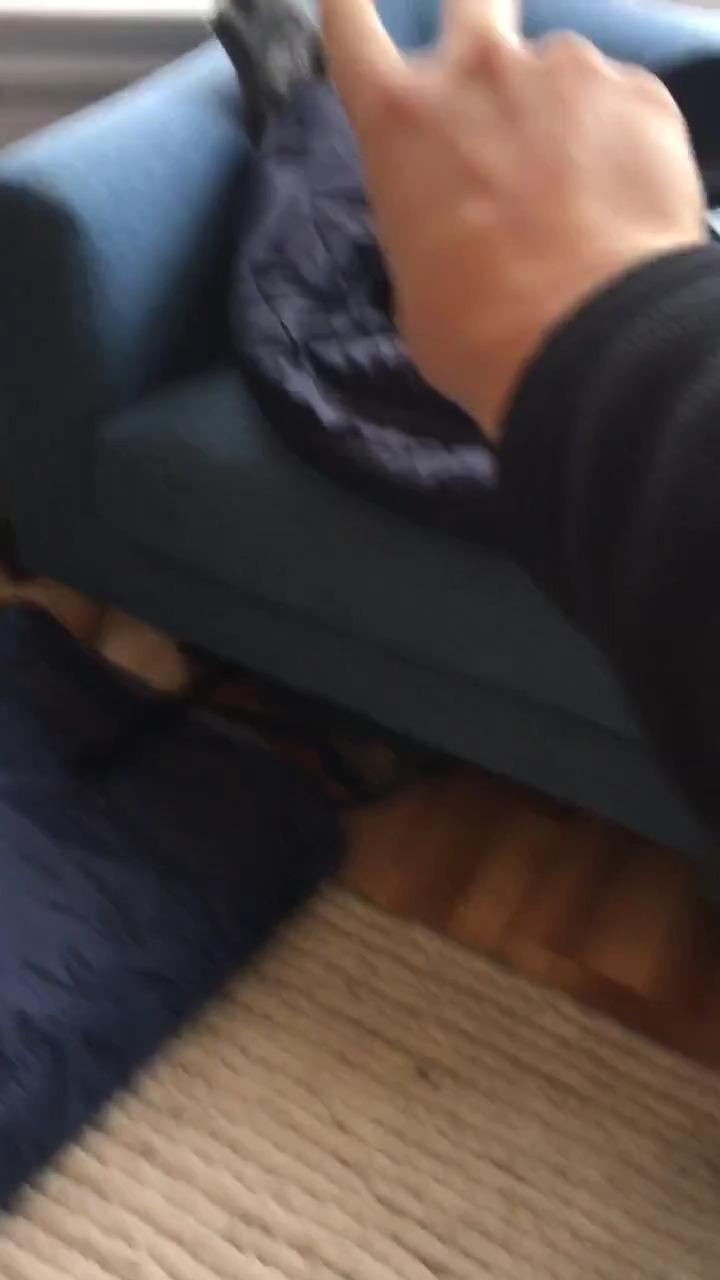Scissors: (320, 0, 708, 402)
